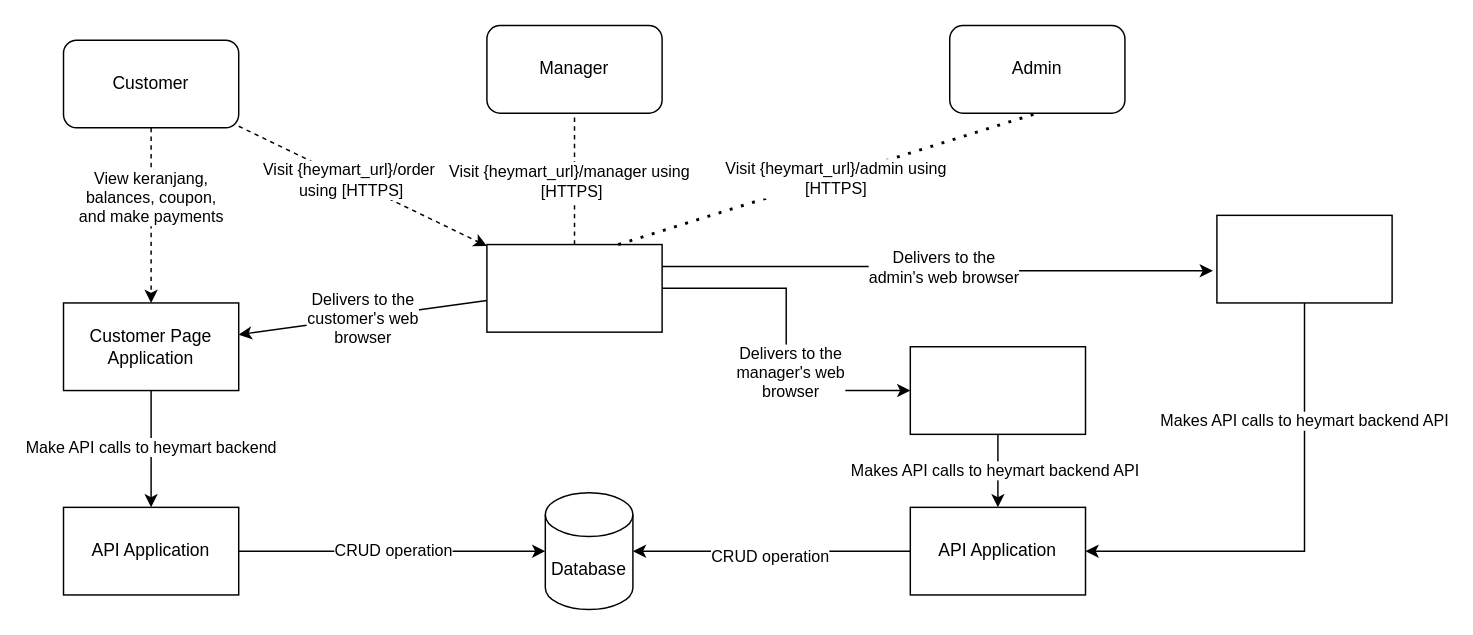
Image size: 1473x635. Some labels were removed from this diagram. Each missing label, with the centre of its shape:
"Admin Page Application" goes at (x=1303, y=258).
"Manager Page Application" goes at (x=997, y=389).
"Web Application" goes at (x=573, y=287).
